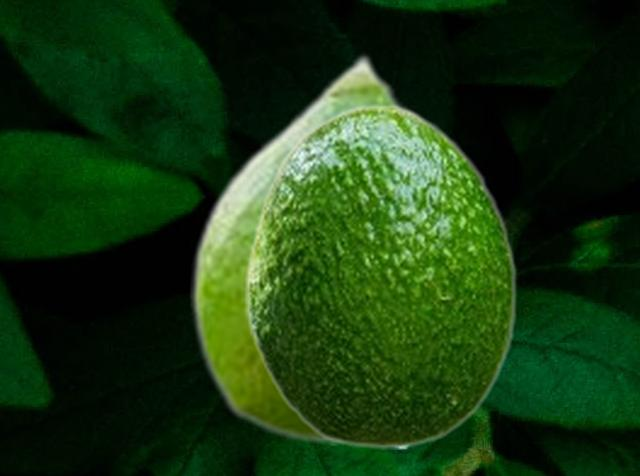avocado: (190, 51, 429, 444), (245, 103, 517, 448)
